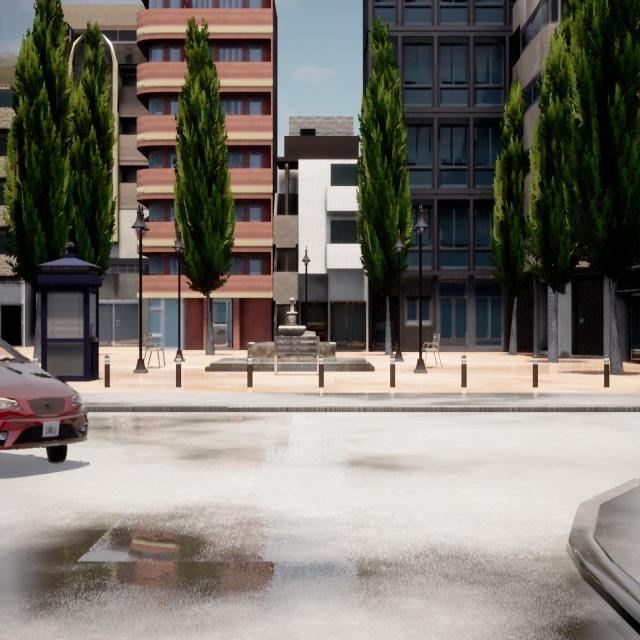Vehicle: (0, 339, 87, 462)
